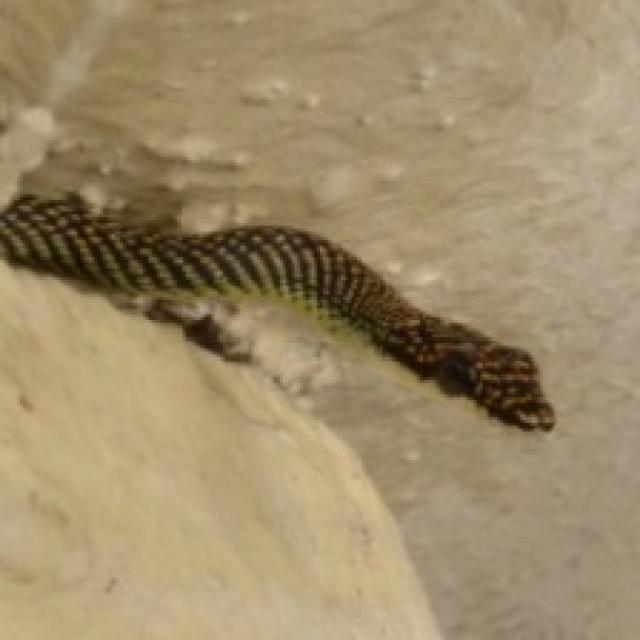paradise tree snake: (0, 194, 551, 429)
